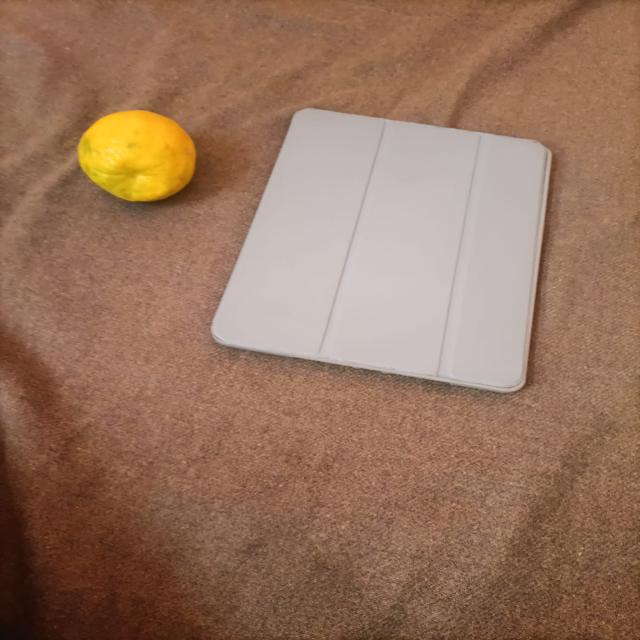orange: (60, 104, 218, 217)
tablet: (197, 49, 577, 415)
